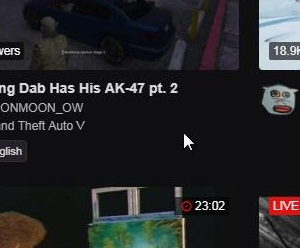cursor: (178, 130, 201, 158)
